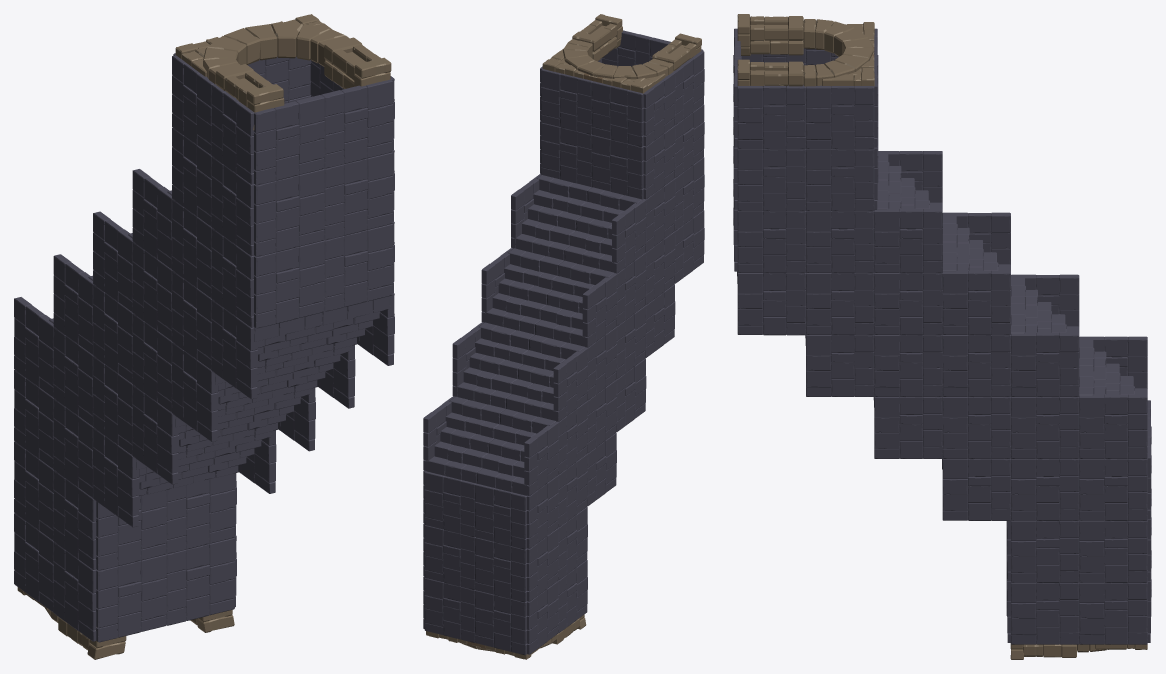
Rendered from Entrance_Exit.fbx.
The picture shows the model from 3 angles, left to right: view 1: azimuth 30°, elevation 25°; view 2: azimuth 150°, elevation 25°; view 3: azimuth 270°, elevation 25°; orthographic projection. The views are drawn at different scales.
Visible parts, largest first — view 1: Entrance_Exit; view 2: Entrance_Exit; view 3: Entrance_Exit.
Boxes of the visible parts, x1,y1,x2,y2 form: Entrance_Exit: (14,14,394,659); Entrance_Exit: (423,14,704,659); Entrance_Exit: (733,14,1151,659).
Size of the model in its own units: 4.25 by 18.99 by 12.25.
